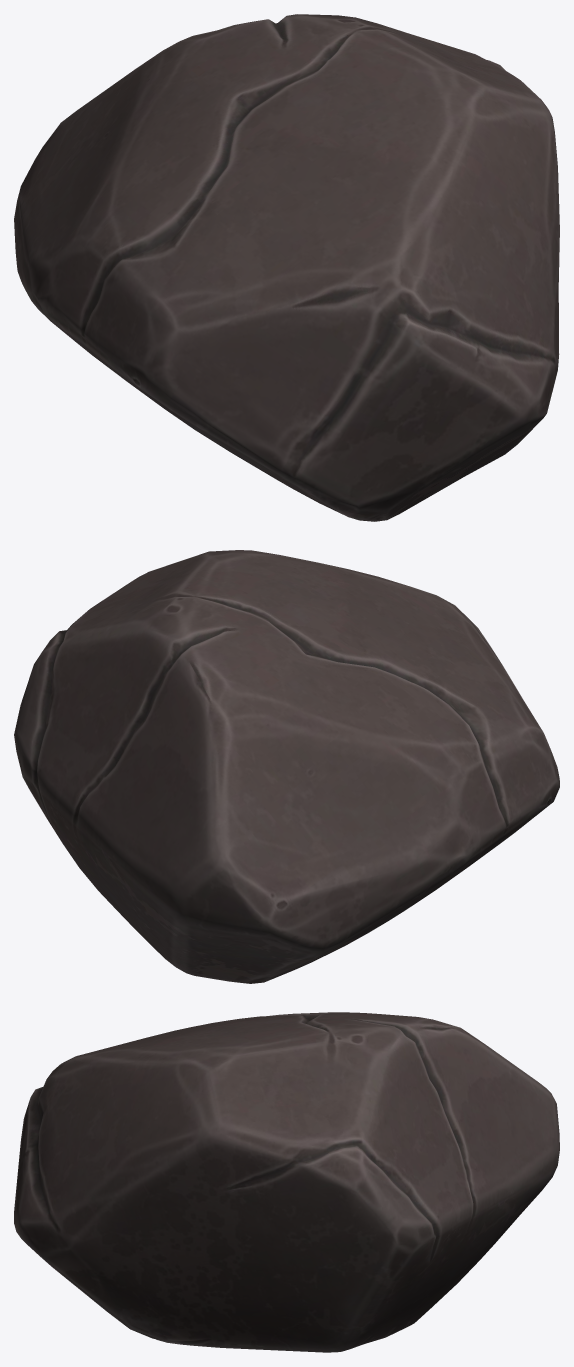
File: obsidian_cracked_d.glb
The picture shows the model from 3 angles, top to bottom: view 1: azimuth 30°, elevation 25°; view 2: azimuth 150°, elevation 25°; view 3: azimuth 270°, elevation 25°; orthographic projection. The views are drawn at different scales.
Visible parts, largest first — view 1: SM_KC_Base_Stone_Small_01_D; view 2: SM_KC_Base_Stone_Small_01_D; view 3: SM_KC_Base_Stone_Small_01_D.
Boxes of the visible parts, box(x1,y1,x2,y2) form: SM_KC_Base_Stone_Small_01_D: box(14, 14, 559, 521); SM_KC_Base_Stone_Small_01_D: box(14, 550, 559, 983); SM_KC_Base_Stone_Small_01_D: box(14, 1012, 559, 1352).
Bounding box in the file's own units: 0.2948 × 0.235 × 0.3554.
Materials: 1 (1 with a texture image).
